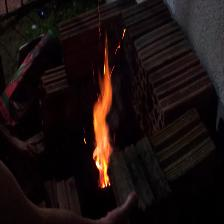fire: (88, 55, 118, 188)
